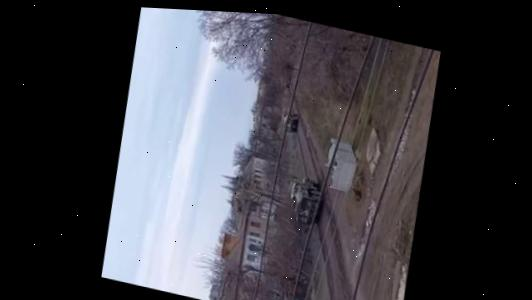truck: (284, 174, 326, 229), (279, 111, 299, 134)
